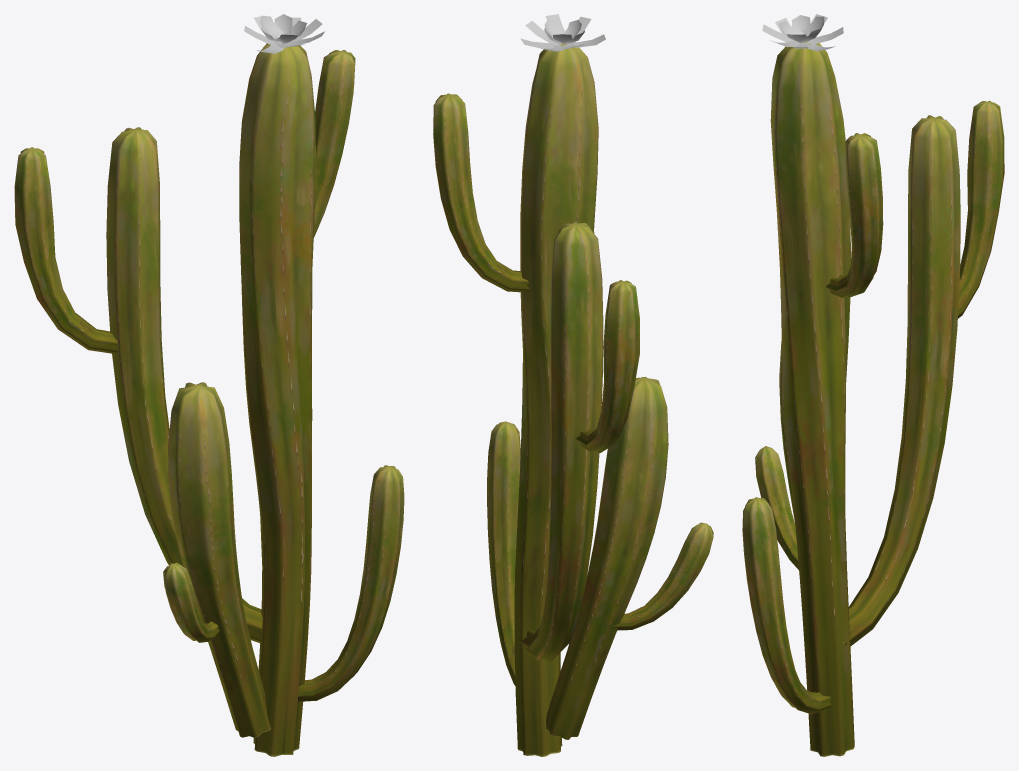
File: SM_Cactus08.fbx
3 renders of one model, left to right at view 1: azimuth 30°, elevation 25°; view 2: azimuth 150°, elevation 25°; view 3: azimuth 270°, elevation 25°, orthographic. The views are drawn at different scales.
Visible parts, largest first — view 1: SM_Cactus08; view 2: SM_Cactus08; view 3: SM_Cactus08.
Part boxes in pixels (x1,y1,x2,y2): SM_Cactus08: [14, 14, 404, 756]; SM_Cactus08: [433, 14, 713, 756]; SM_Cactus08: [742, 14, 1004, 756].
Bounding box in the file's own units: 373 × 970 × 319.
